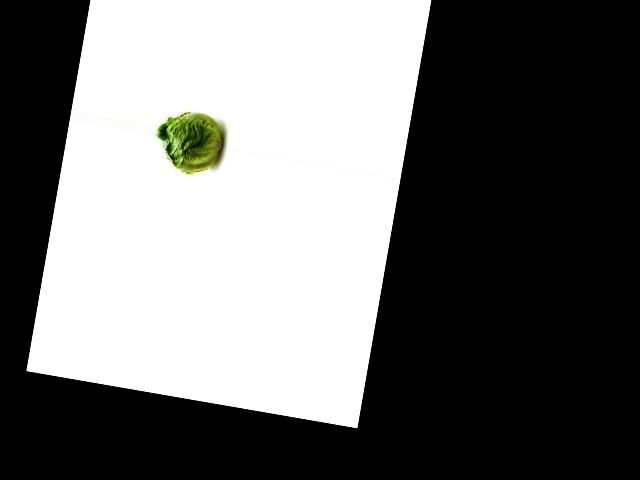lettuce: (149, 104, 230, 184)
